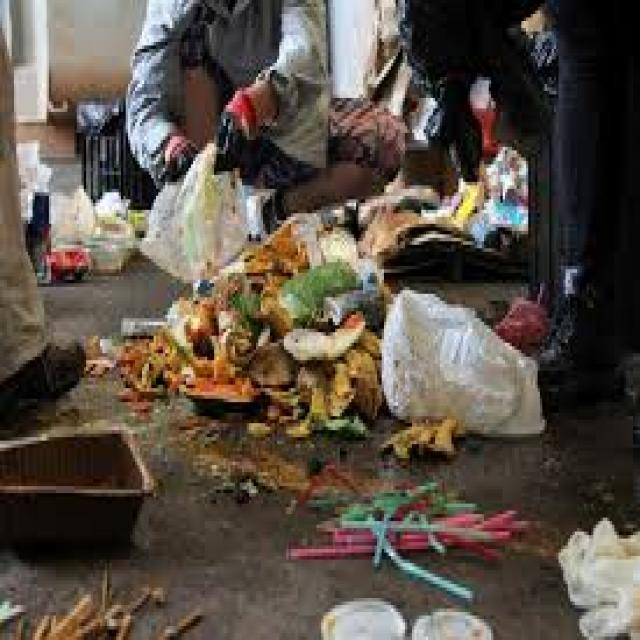food_waste: (148, 270, 492, 561), (234, 232, 376, 414)
